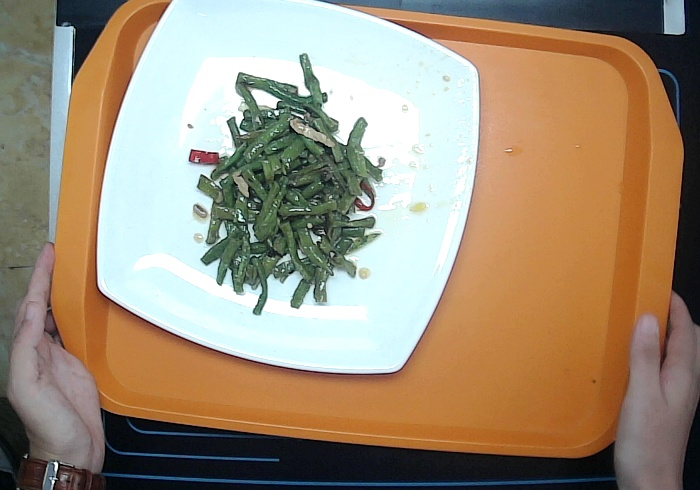ZNLD-Bai_Fang_Pan: (87, 1, 497, 387)
